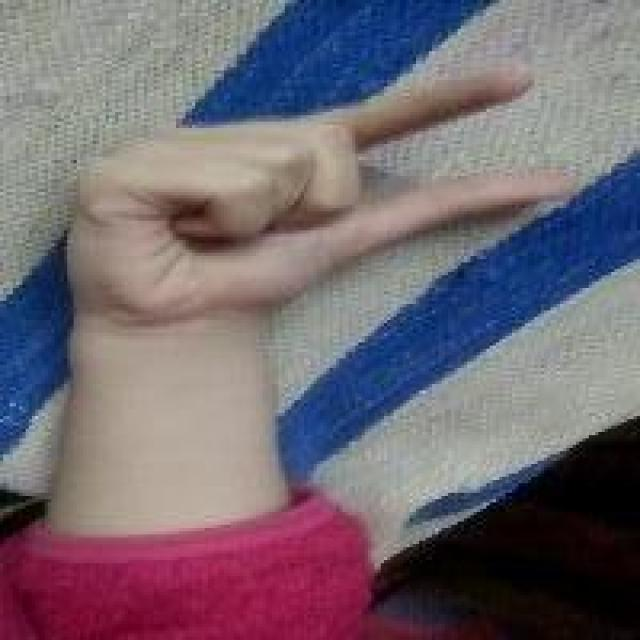G: (59, 64, 571, 330)
